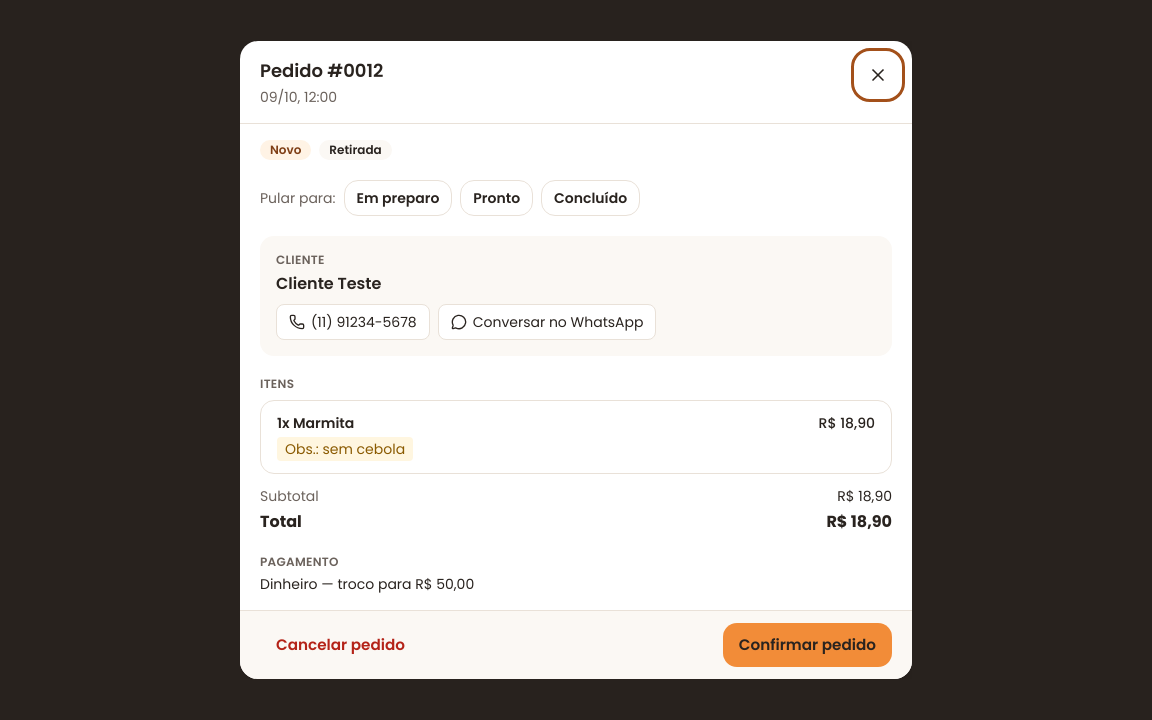
Test: detalhes do pedido › mostra o erro do servidor quando a transição é recusada
Click the button "Confirmar pedido".
click(807, 645)  # box [723, 623, 892, 667]
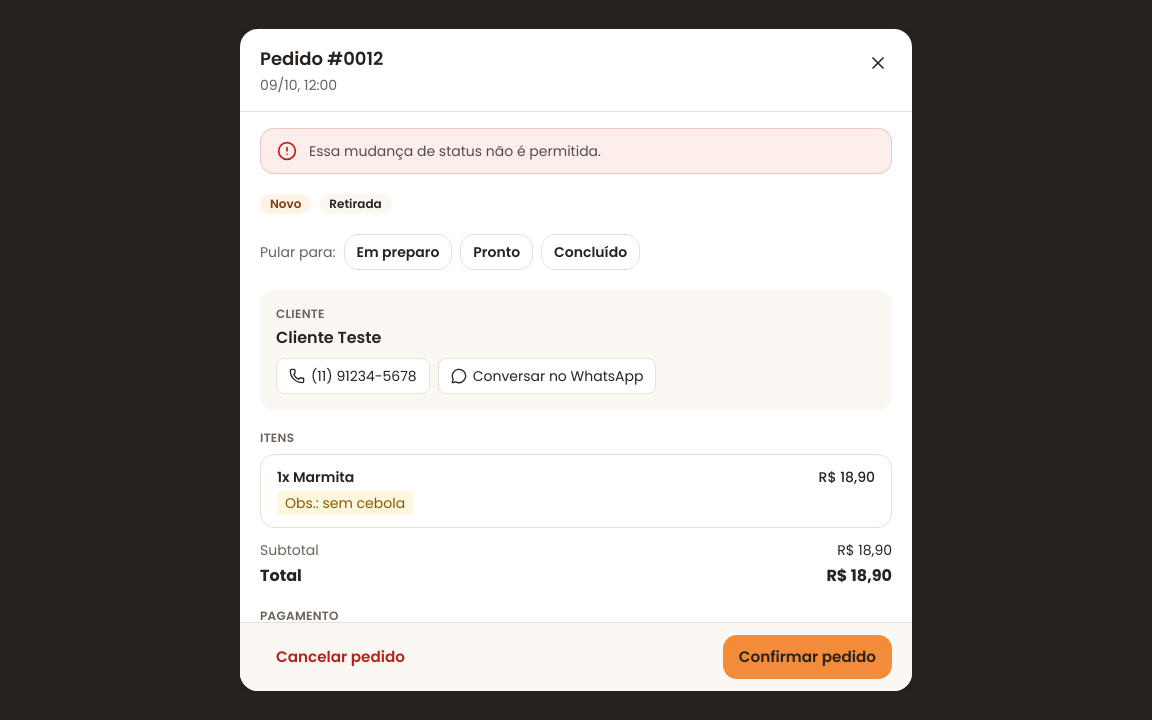
Result: the text "Essa mudança de status não é permitida." is shown at [309, 141, 601, 161]
